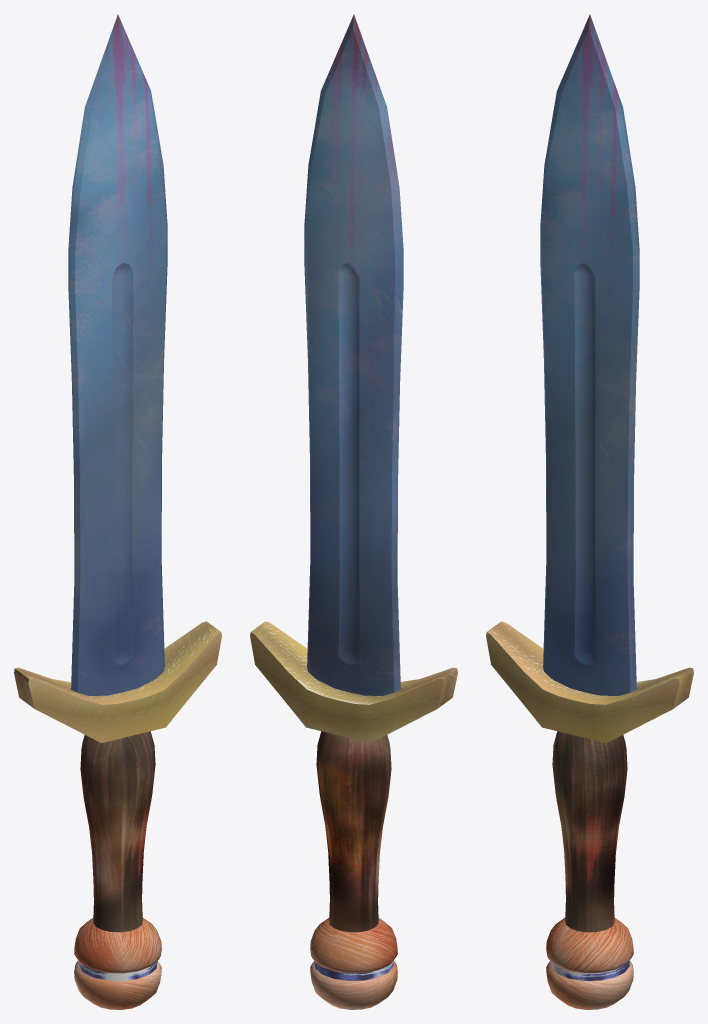
File: Sword_Übung_2tag.fbx
3 renders of one model, left to right at view 1: azimuth 30°, elevation 25°; view 2: azimuth 150°, elevation 25°; view 3: azimuth 330°, elevation 25°, orthographic.
Parts seen in each view (by area): view 1: short_sword; view 2: short_sword; view 3: short_sword.
Part boxes in pixels (x1,y1,x2,y2): short_sword: (14,14,221,1009); short_sword: (250,14,457,1009); short_sword: (486,14,693,1009).
Bounding box in the file's own units: 41.06 × 200 × 16.27.
